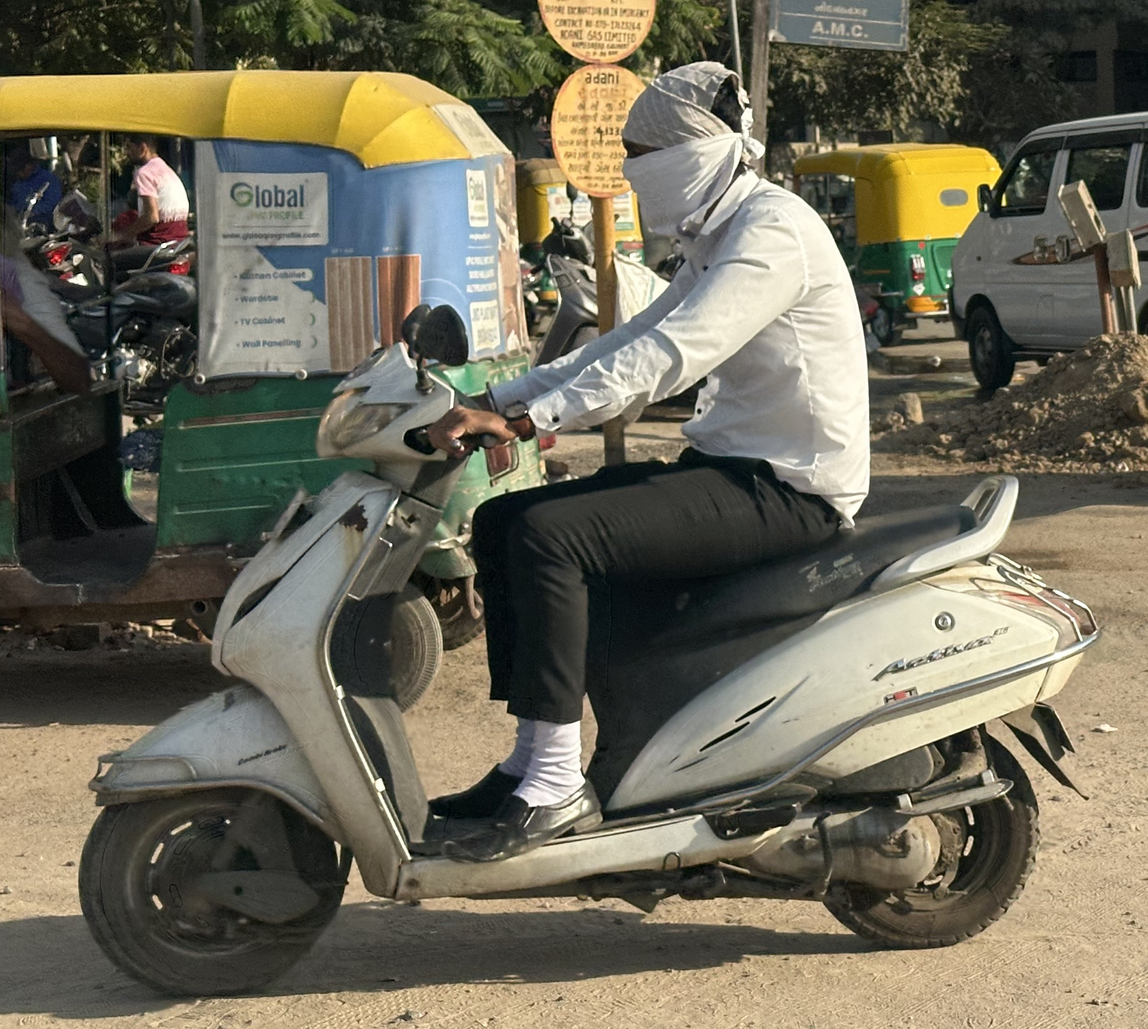BikeWithRider: (63, 49, 1112, 1007)
NoHelmet: (606, 51, 771, 250)
